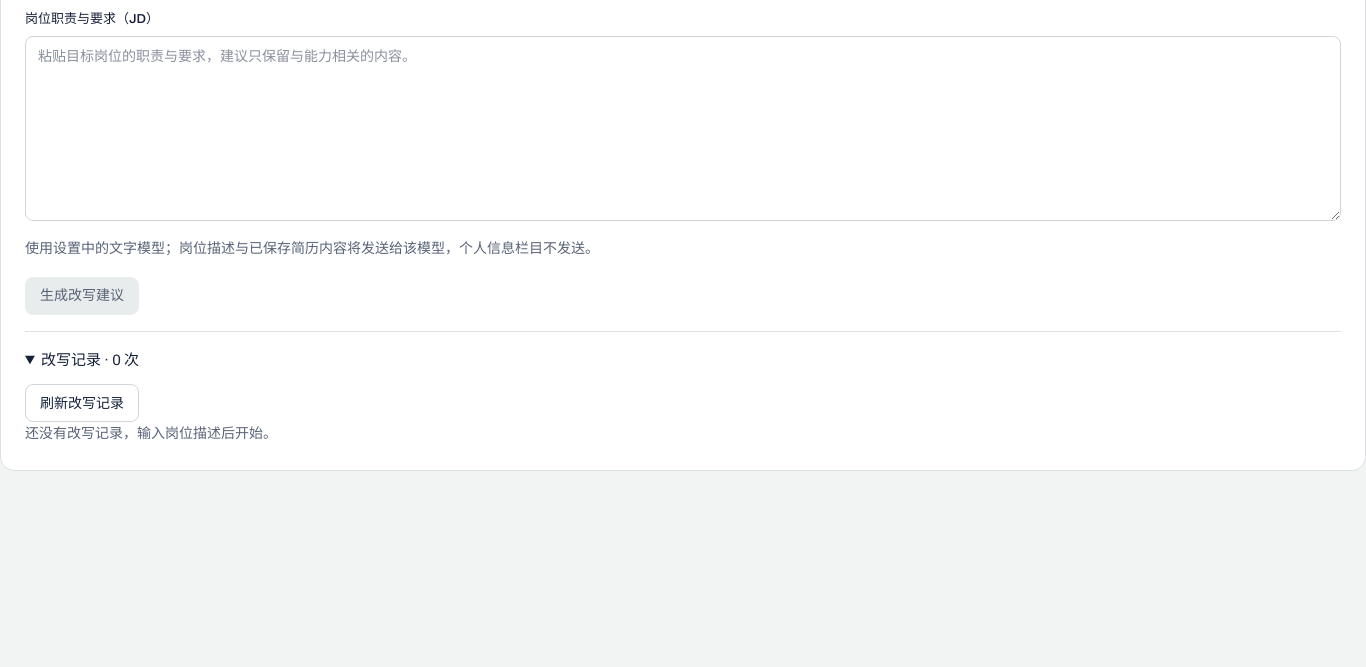
只有明确采纳才保存，成功后禁止重复保存
The image size is (1366, 667).
Type "接口开发" into the text box labelled "岗位职责与要求（JD）". click: (683, 129)
box: [25,36,1341,221]
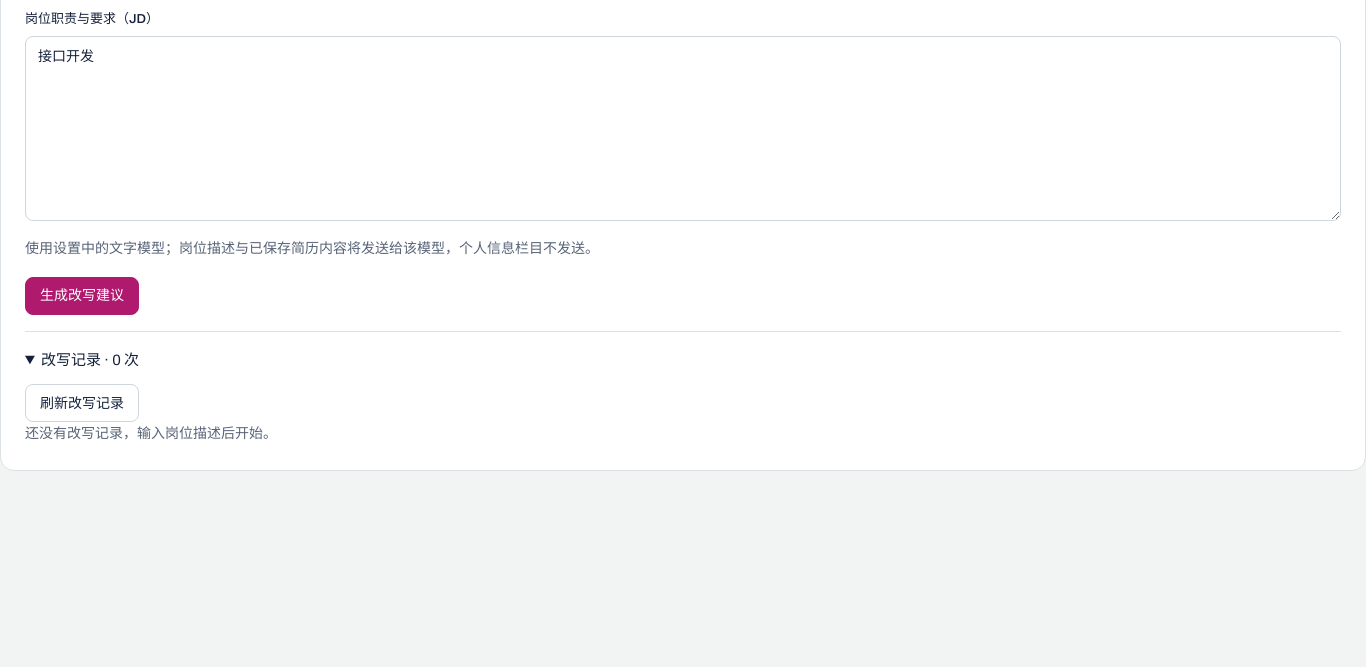
Click the button "生成改写建议". click: click(82, 296)
box: [25,277,139,315]
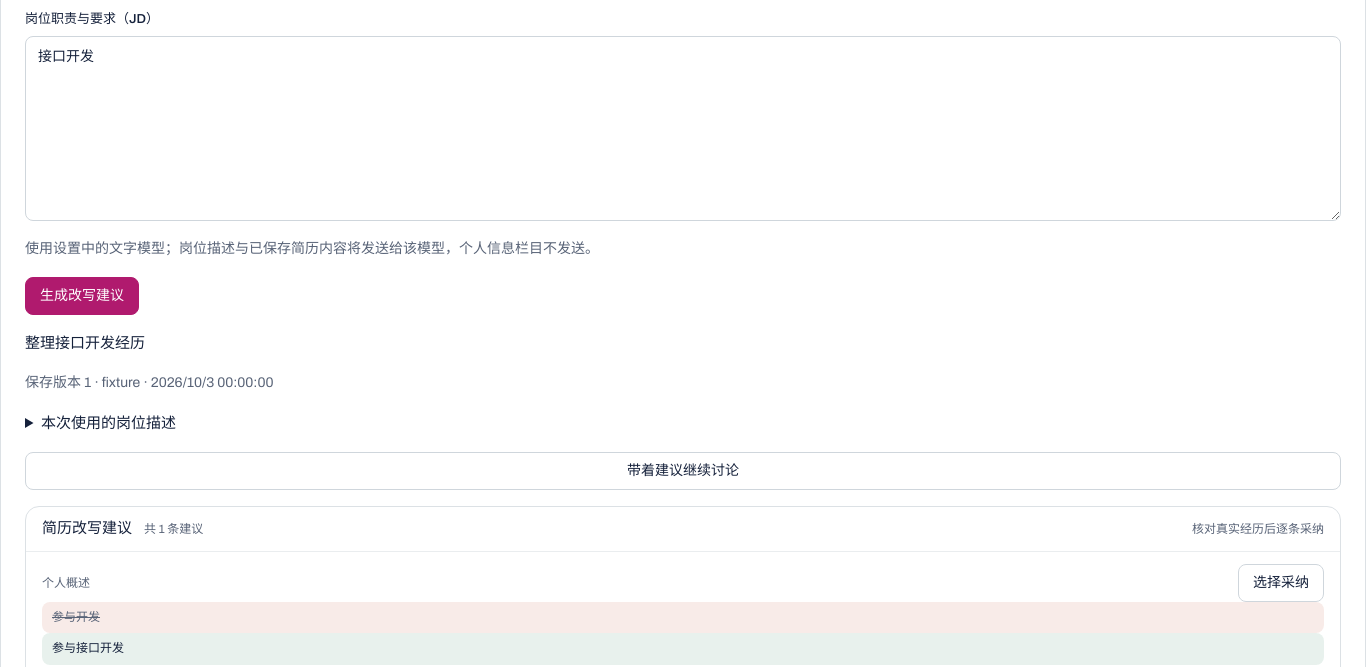
Check: the text "整理接口开发经历" is shown, box [25,335,145,351]
Click the button with aria-label "采纳建议 1". click: click(1281, 582)
box: [1238,564,1324,602]
(page scrolled)
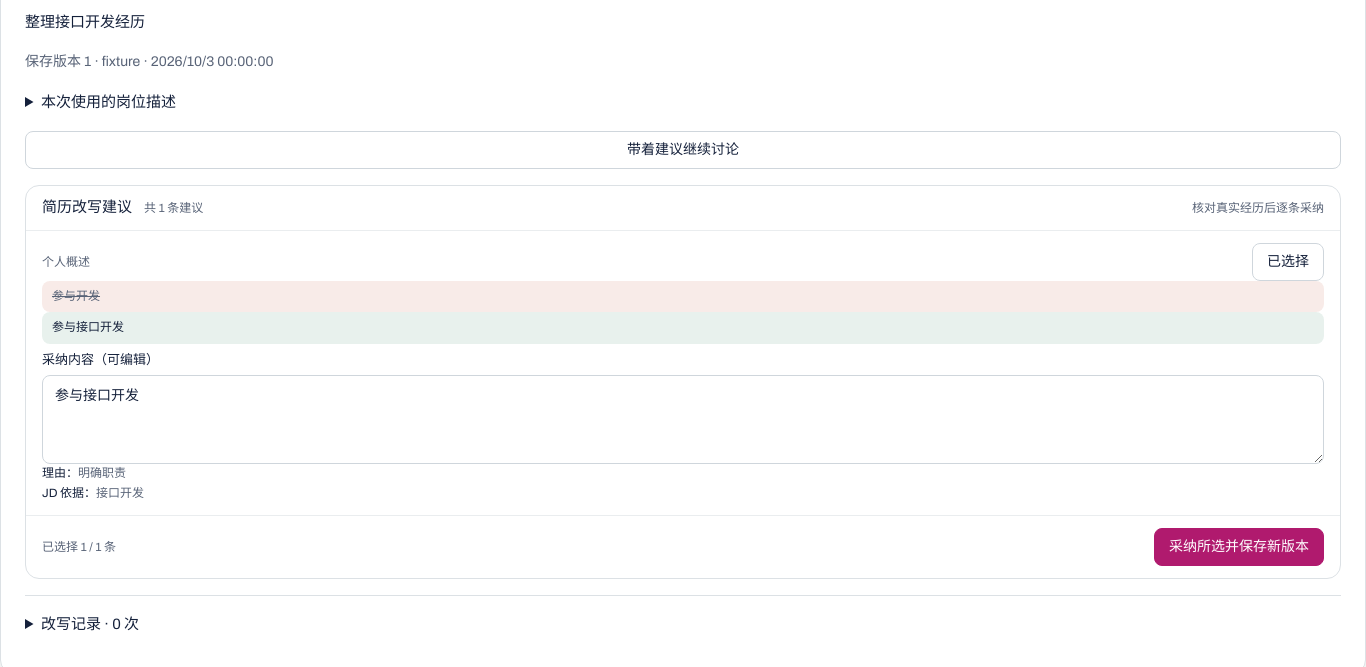
Click the button "采纳所选并保存新版本". click: click(1239, 547)
box: [1154,528,1324,566]
(page scrolled)
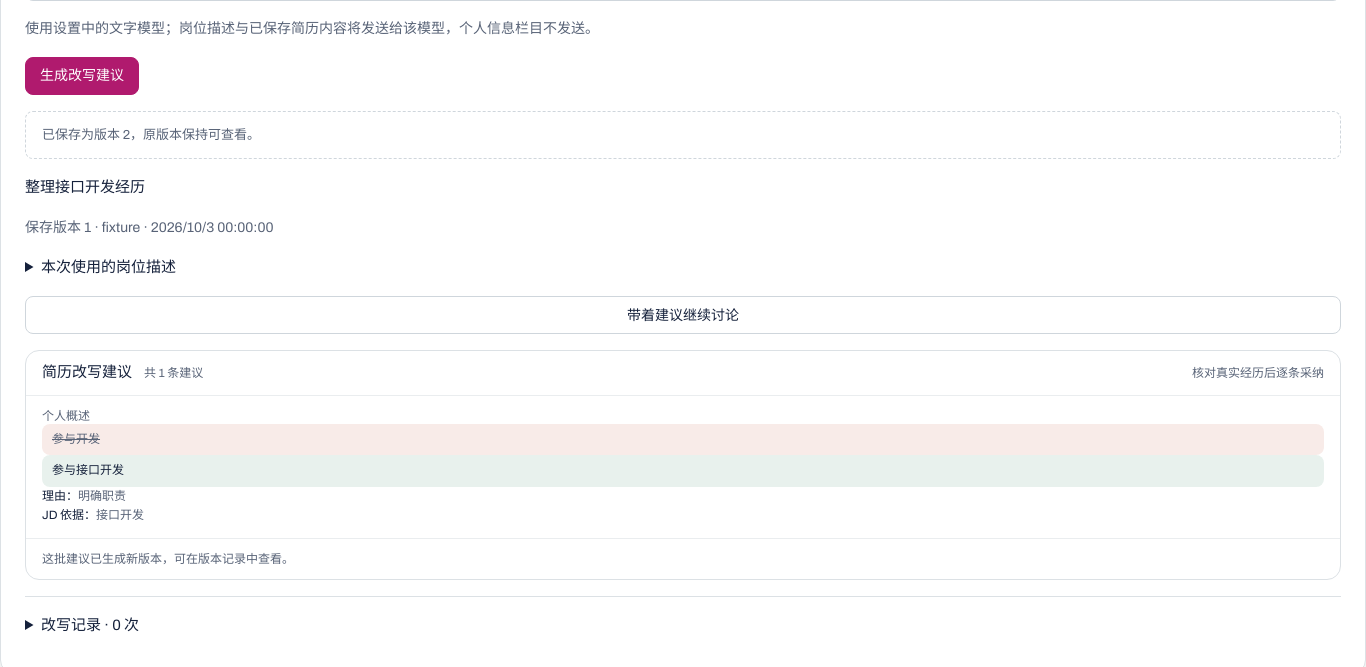
Check: the text "这批建议已生成新版本" is shown, box [42,552,294,566]
